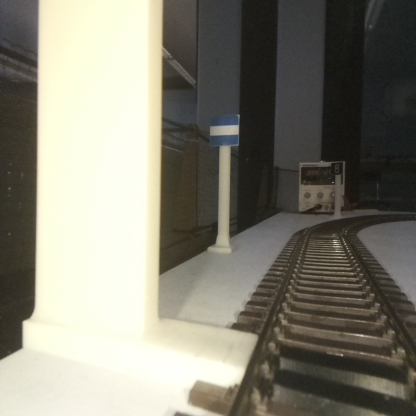black-info-8: (331, 162, 342, 215)
start: (209, 115, 238, 250)
